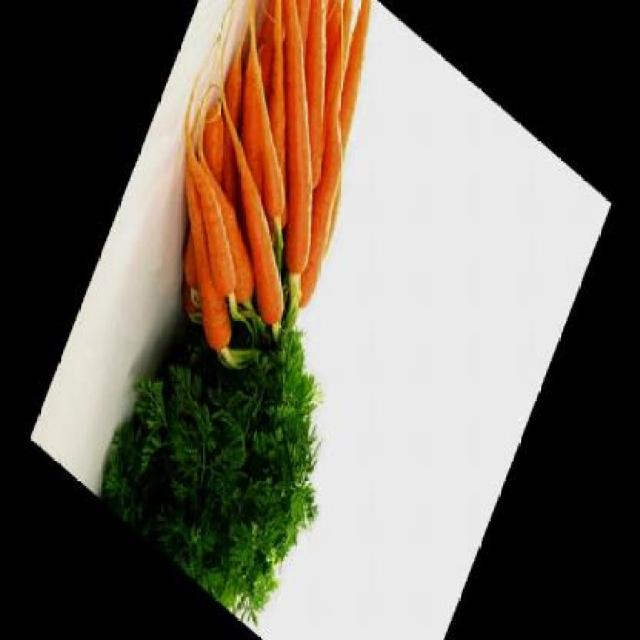carrot: (195, 0, 386, 278), (246, 30, 394, 312), (162, 87, 332, 331), (229, 0, 382, 191), (198, 22, 327, 220), (144, 175, 265, 358), (149, 136, 265, 302), (162, 146, 280, 309), (170, 226, 213, 296), (172, 281, 202, 327)
